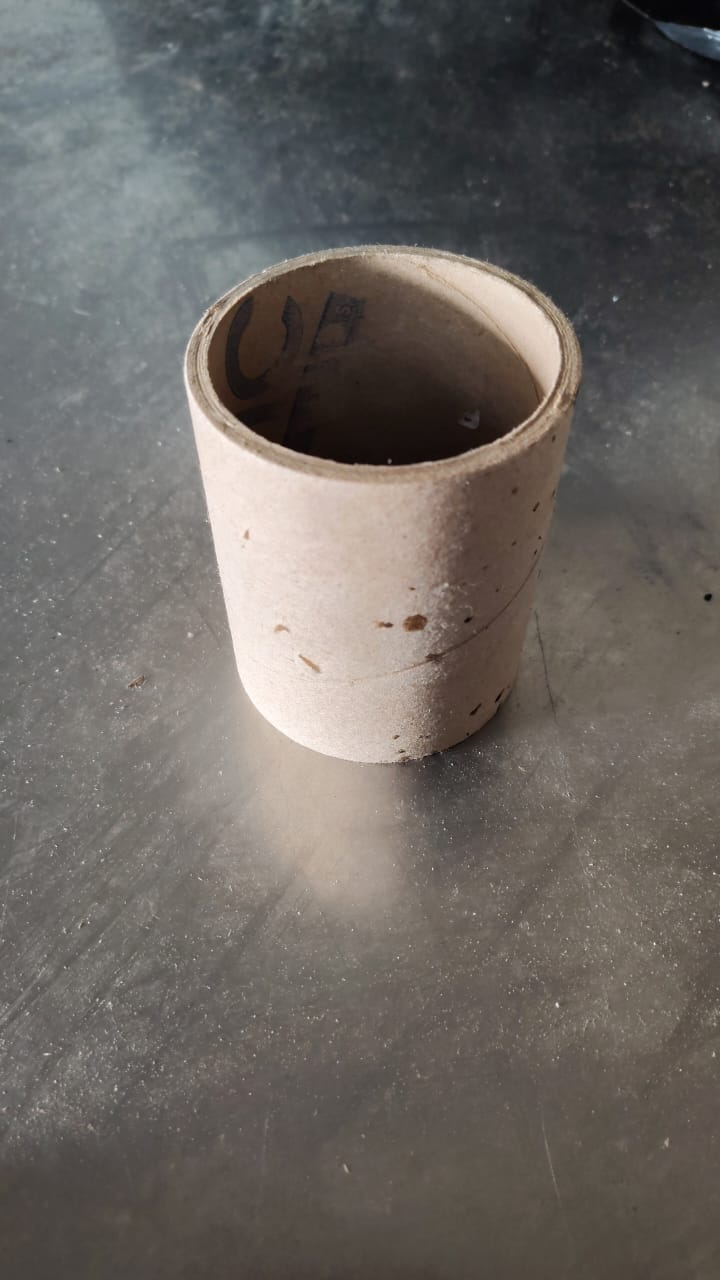Carton: (180, 246, 584, 768)
